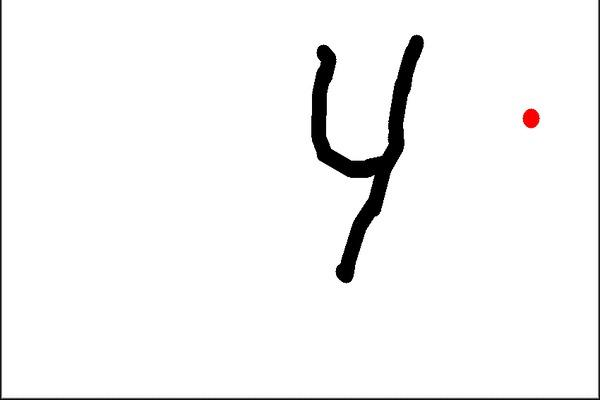Y: (295, 25, 429, 297)
